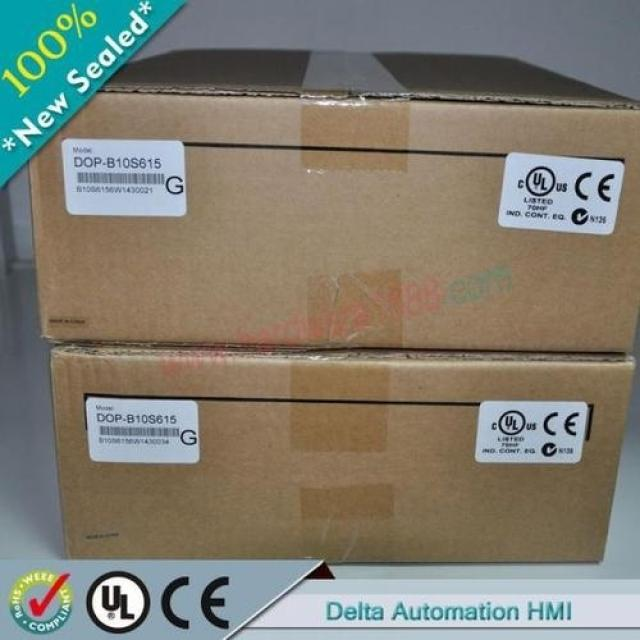box: (26, 47, 639, 354), (45, 343, 636, 562)
